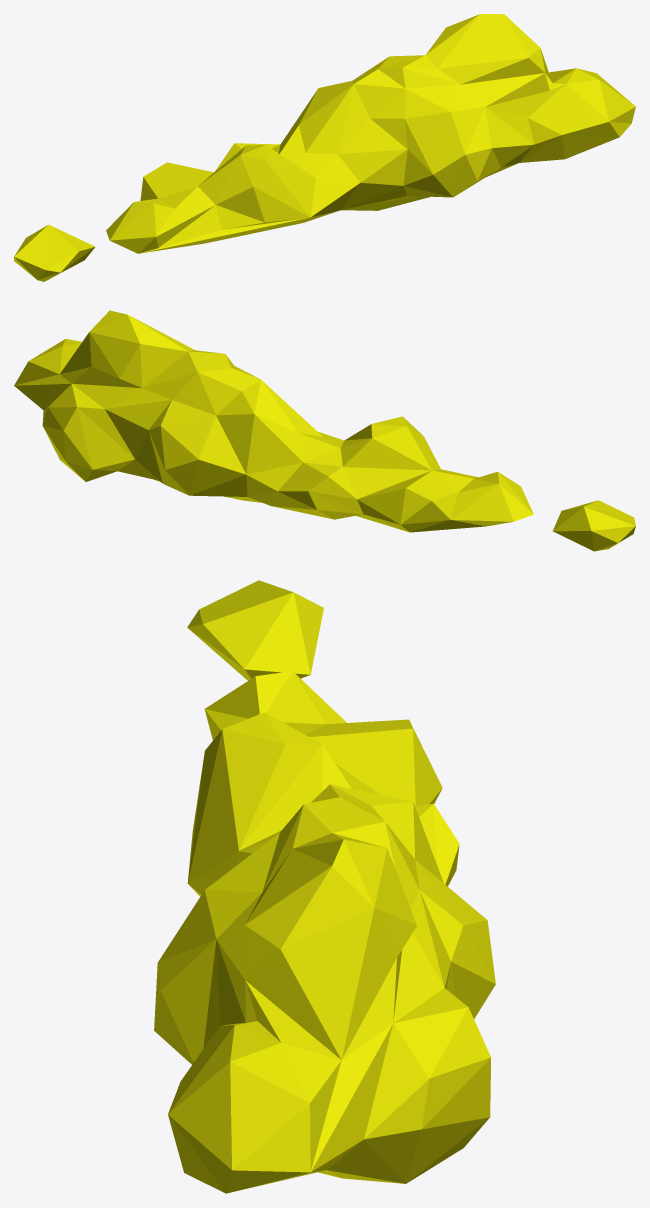
Rendered from SM_Generic_Cloud_01-optimized.glb.
3 views of the same model, one above another, from view 1: azimuth 30°, elevation 25°; view 2: azimuth 150°, elevation 25°; view 3: azimuth 270°, elevation 25° (orthographic). The views are drawn at different scales.
Visible parts, largest first — view 1: SM_Generic_Cloud_01; view 2: SM_Generic_Cloud_01; view 3: SM_Generic_Cloud_01.
Boxes of the visible parts, left/top/right/bottom form: SM_Generic_Cloud_01: left=14, top=14, right=635, bottom=281; SM_Generic_Cloud_01: left=14, top=310, right=635, bottom=551; SM_Generic_Cloud_01: left=154, top=580, right=495, bottom=1193.
Size of the model in its own units: 6.68 by 1.65 by 1.61.
1 material, 1 textured.
